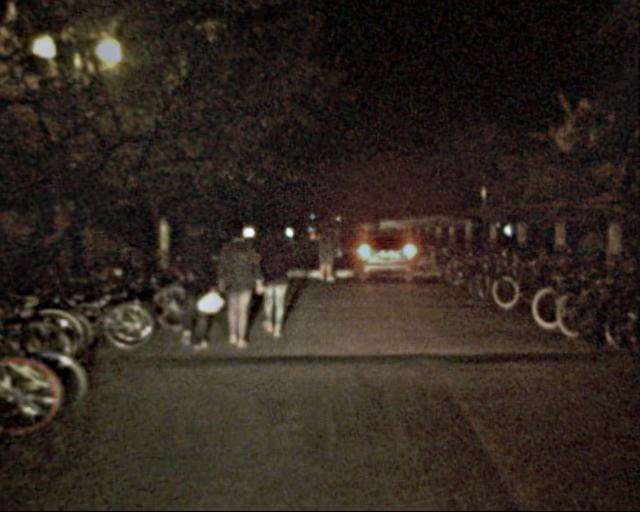person: (173, 209, 218, 349), (255, 220, 293, 339), (221, 230, 258, 349), (315, 224, 341, 282)
